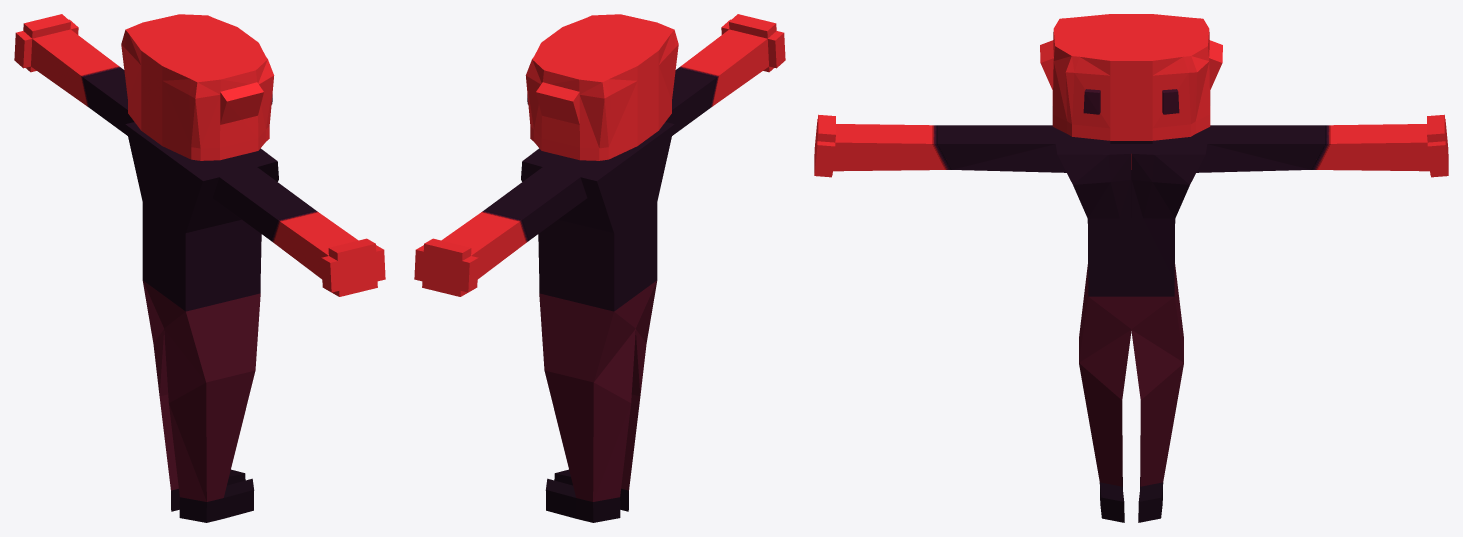
File: robo.obj
3 views of the same model, side by side, from view 1: azimuth 30°, elevation 25°; view 2: azimuth 150°, elevation 25°; view 3: azimuth 270°, elevation 25° (orthographic).
Parts seen in each view (by area): view 1: ludzik_Cube.001, rekaprawa_Cube.003, rekalewa_Cube.002; view 2: ludzik_Cube.001, rekalewa_Cube.002, rekaprawa_Cube.003; view 3: ludzik_Cube.001, rekalewa_Cube.002, rekaprawa_Cube.003.
Boxes of the visible parts, left/top/right/bottom form: ludzik_Cube.001: left=83, top=14, right=315, bottom=522; rekaprawa_Cube.003: left=270, top=210, right=385, bottom=296; rekalewa_Cube.002: left=14, top=14, right=121, bottom=108; ludzik_Cube.001: left=484, top=14, right=716, bottom=522; rekalewa_Cube.002: left=414, top=210, right=529, bottom=296; rekaprawa_Cube.003: left=678, top=14, right=785, bottom=108; ludzik_Cube.001: left=938, top=14, right=1324, bottom=522; rekalewa_Cube.002: left=1311, top=114, right=1448, bottom=177; rekaprawa_Cube.003: left=814, top=114, right=951, bottom=177.
Bounding box in the file's own units: 2.67 × 11.81 × 14.7.
